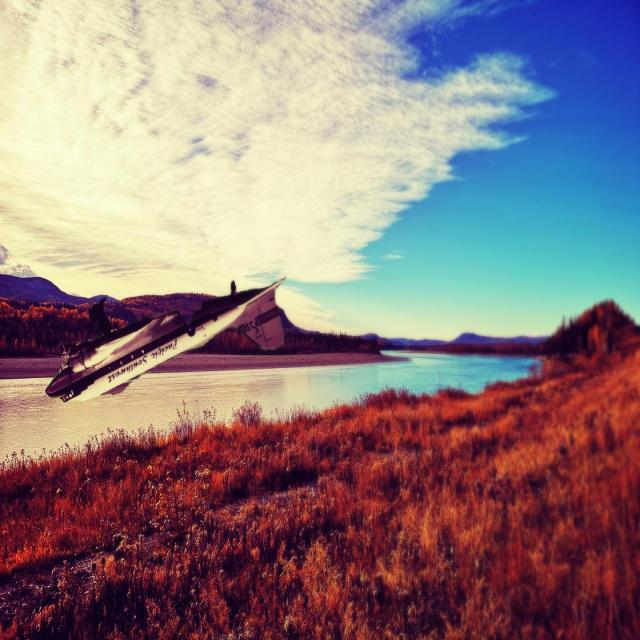airplane: (45, 276, 287, 403)
